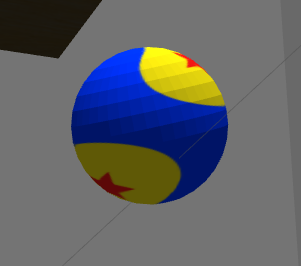toy story ball: (72, 47, 228, 204)
